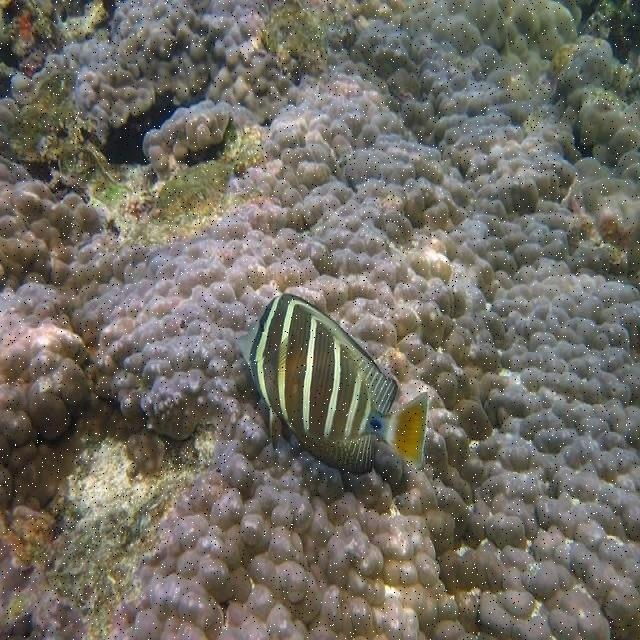fish: (242, 294, 428, 477)
